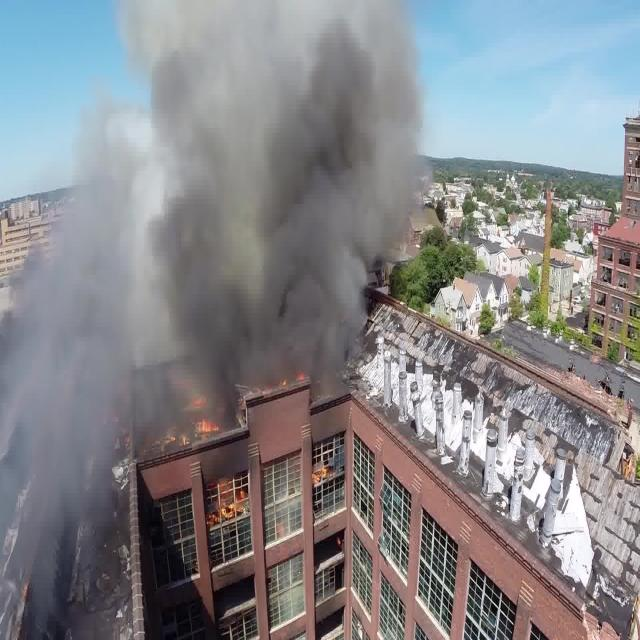Smoke: (0, 4, 435, 584)
